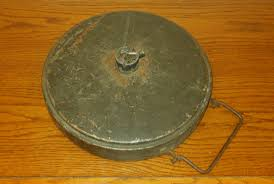car: (23, 4, 251, 183)
